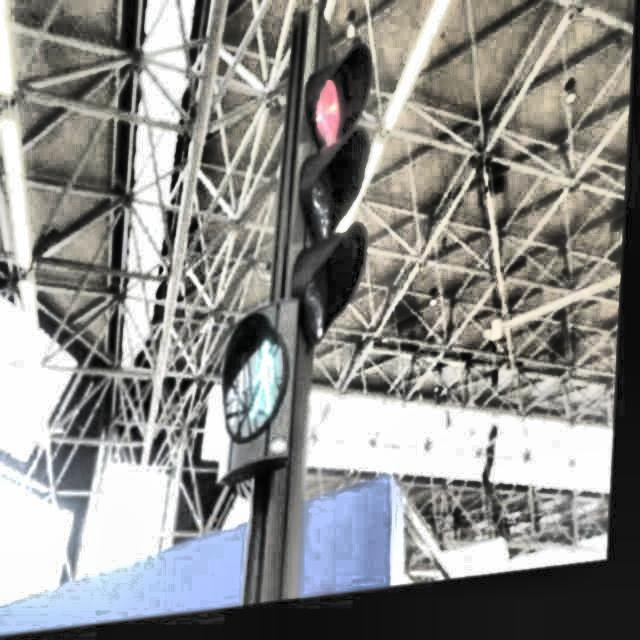semaforo pedestre: (155, 272, 349, 556)
